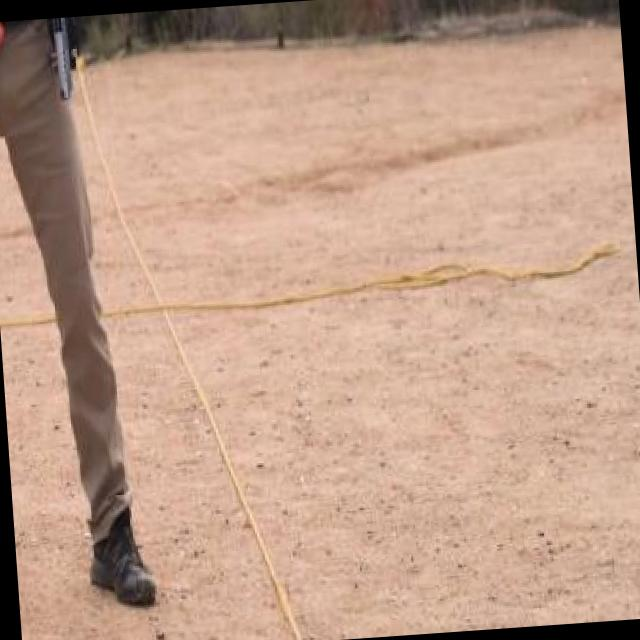Guns: (24, 15, 107, 116)
